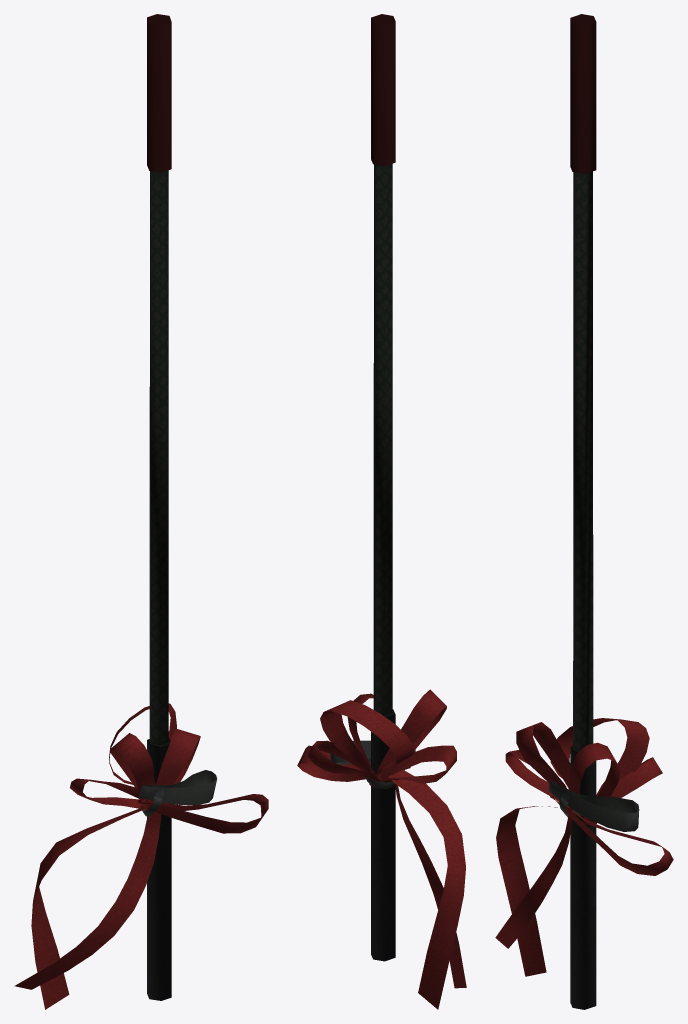
File: Melee_Prop_Baton_Prop_Main_(000828).glb
3 views of the same model, side by side, from view 1: azimuth 30°, elevation 25°; view 2: azimuth 150°, elevation 25°; view 3: azimuth 330°, elevation 25° (orthographic). The views are drawn at different scales.
Visible parts, largest first — view 1: props; view 2: props; view 3: props.
Part boxes in pixels (x1=…): props: x1=14, y1=14, x2=268, y2=1009; props: x1=297, y1=14, x2=466, y2=1009; props: x1=495, y1=14, x2=673, y2=1009.
Size of the model in its own units: 0.1858 by 0.8307 by 0.079.
1 material, 1 textured.
